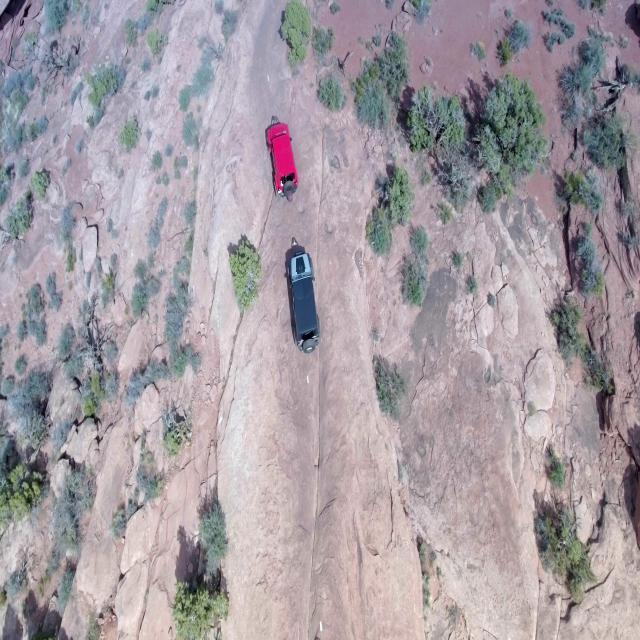vehicle: (289, 250, 321, 354), (265, 120, 299, 201)
